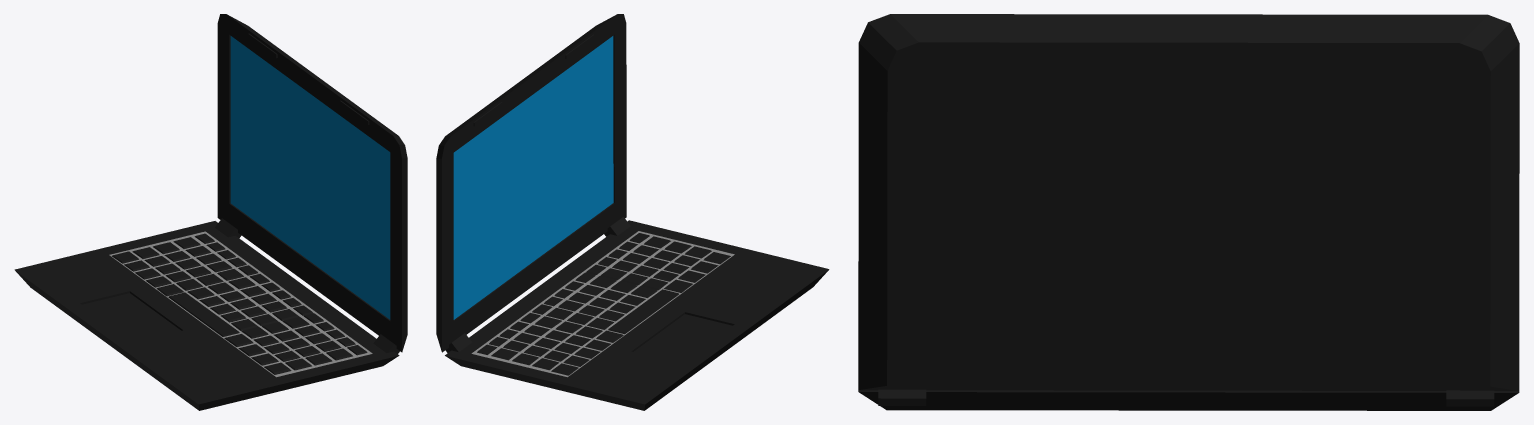
The model's file is Laptop.gltf.
3 renders of one model, left to right at view 1: azimuth 30°, elevation 25°; view 2: azimuth 150°, elevation 25°; view 3: azimuth 270°, elevation 25°, orthographic. The views are drawn at different scales.
Parts seen in each view (by area): view 1: node-0; view 2: node-0; view 3: node-0.
Boxes of the visible parts, box(x1,y1,x2,y2) form: node-0: box(14, 14, 407, 410); node-0: box(436, 14, 829, 410); node-0: box(858, 14, 1519, 410).
Bounding box in the file's own units: 0.2462 × 0.2459 × 0.3625.
